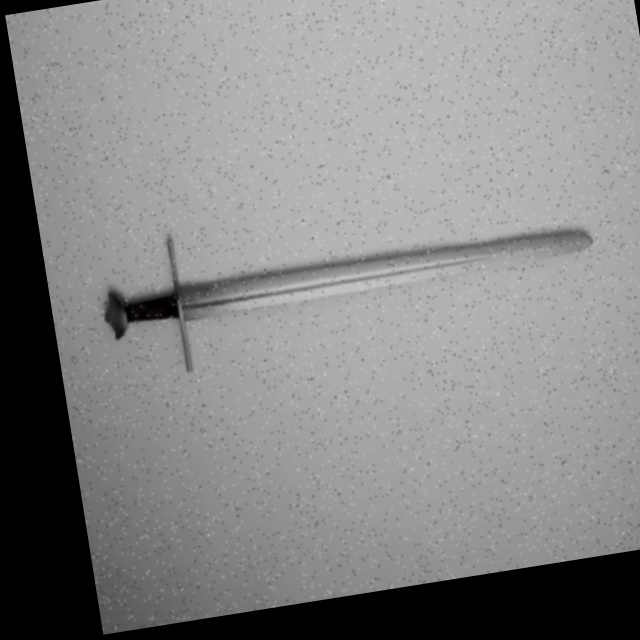Sharp-Object: (84, 213, 596, 338)
